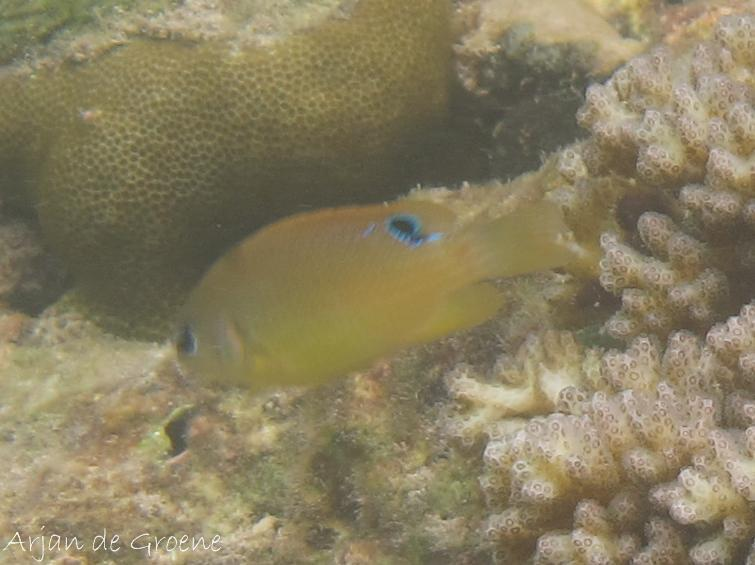Fish: (140, 171, 578, 396)
